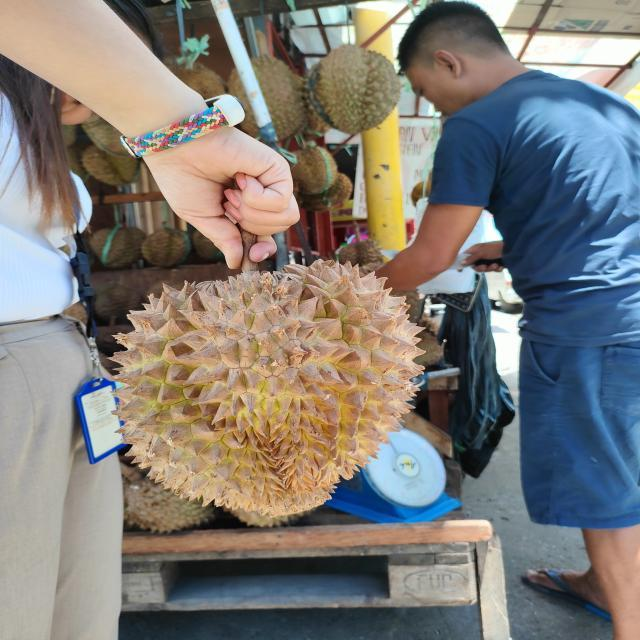mature: (107, 260, 425, 514)
